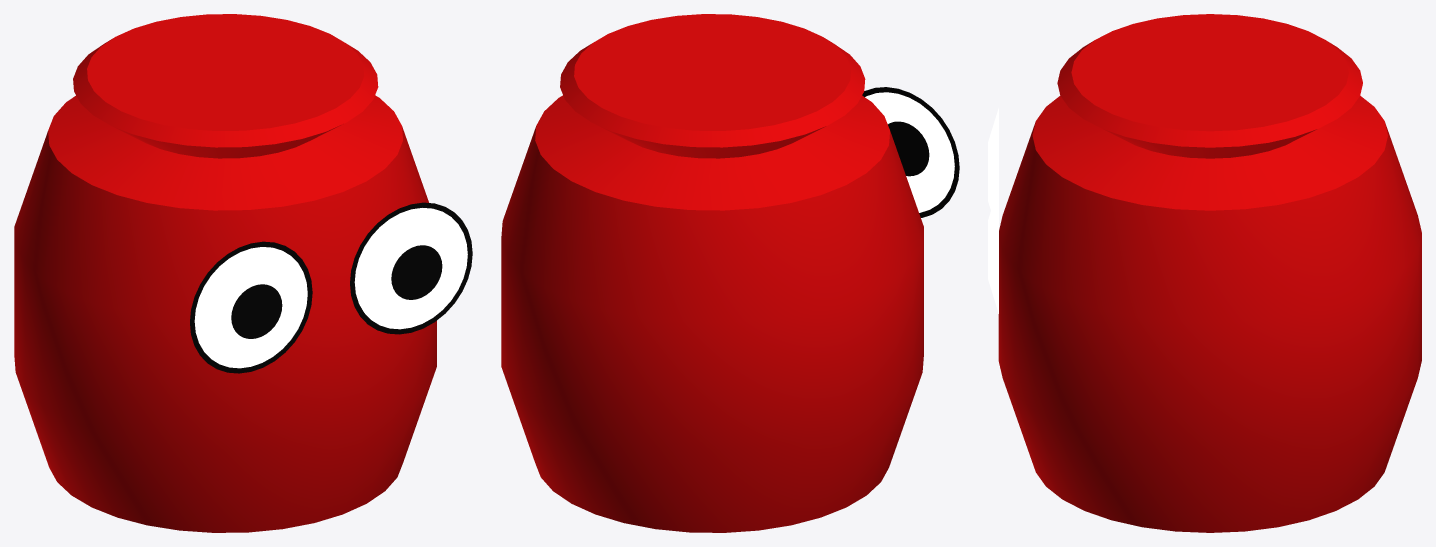
The model's file is Barrel.glb.
The picture shows the model from 3 angles, left to right: view 1: azimuth 30°, elevation 25°; view 2: azimuth 150°, elevation 25°; view 3: azimuth 270°, elevation 25°; orthographic projection.
Parts seen in each view (by area): view 1: Barrel; view 2: Barrel; view 3: Barrel.
Boxes of the visible parts, x1,y1,x2,y2 form: Barrel: [14, 14, 472, 532]; Barrel: [501, 14, 959, 532]; Barrel: [988, 14, 1421, 532].
Size of the model in its own units: 2.38 by 2.39 by 2.44.
